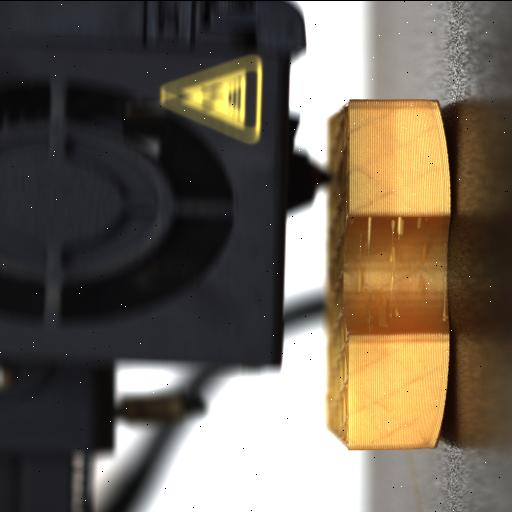warp: (428, 324, 454, 454), (430, 92, 456, 220)
